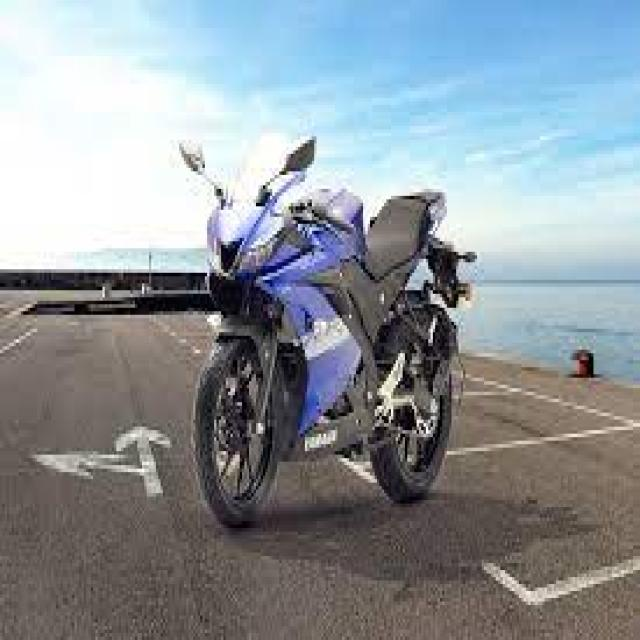bike: (178, 124, 474, 531)
